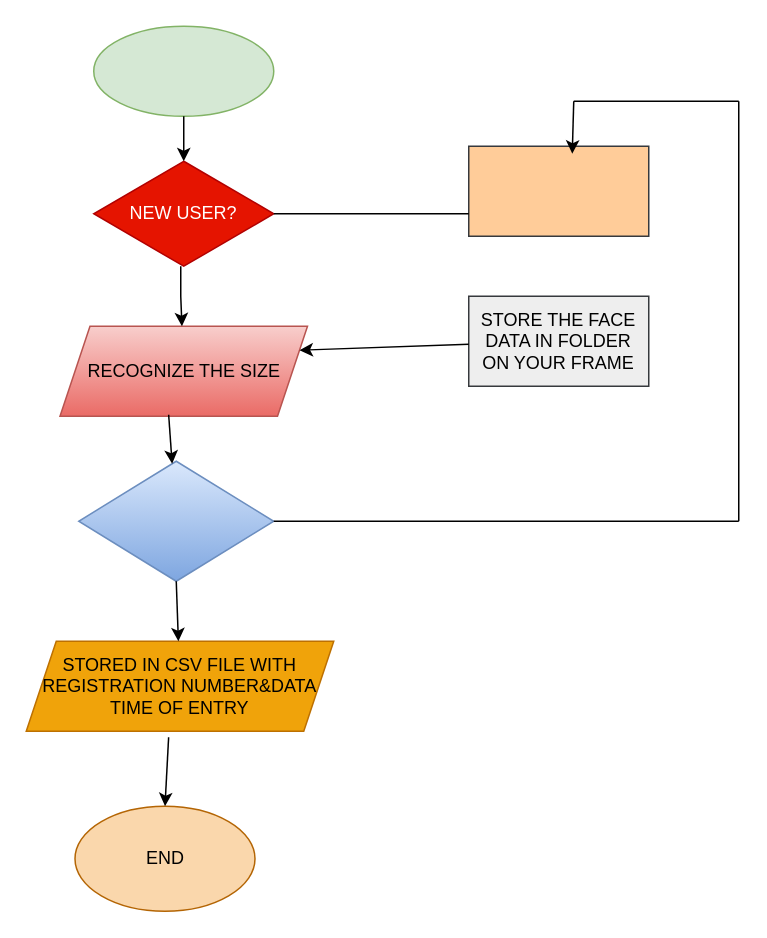
This 767x938 diagram has some shape labels left out. Here are the shapes that lost their labels. From the top down, the centre of each, then its label:
At (x=183, y=70): "START".
At (x=558, y=190): "GIVE YOUR PHOTOGRAPH".
At (x=175, y=520): "FACE RECOGNIZED".
